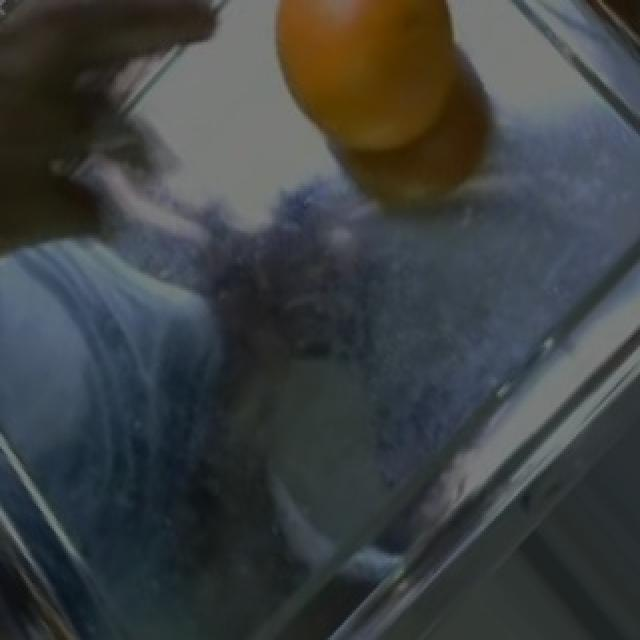Fruit: (244, 3, 504, 181)
